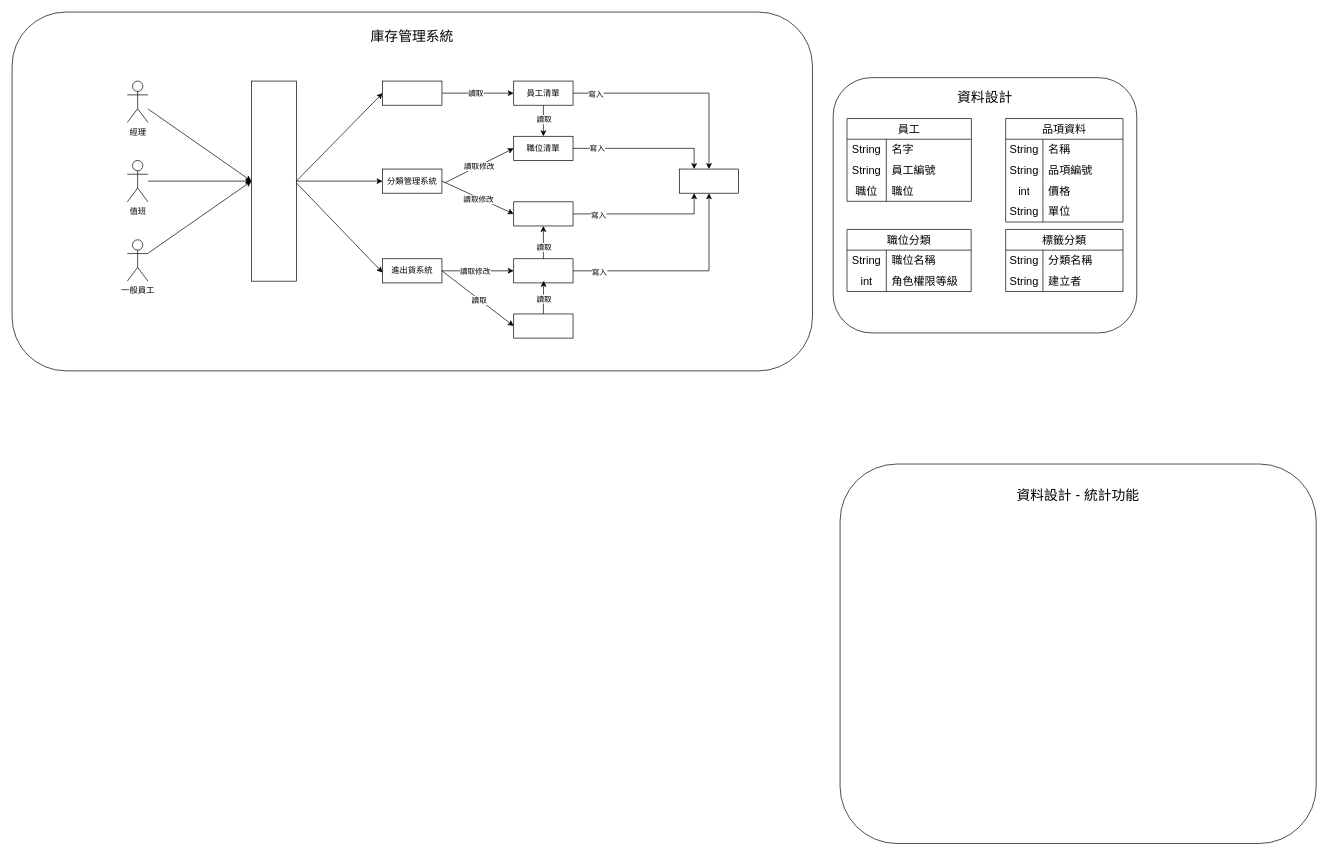
Some shapes in this 1328 by 856 pixel diagram are drawn without their labels. The shapes that lost their labels are listed below. From the top down, each one's centre as x and y in pixels, then its label:
At point (412, 92): "員工管理系統".
At point (273, 180): "統 一 介 面".
At point (709, 180): "系統日誌".
At point (543, 213): "標籤清單".
At point (543, 270): "庫存清單".
At point (543, 325): "庫存統計報告".
